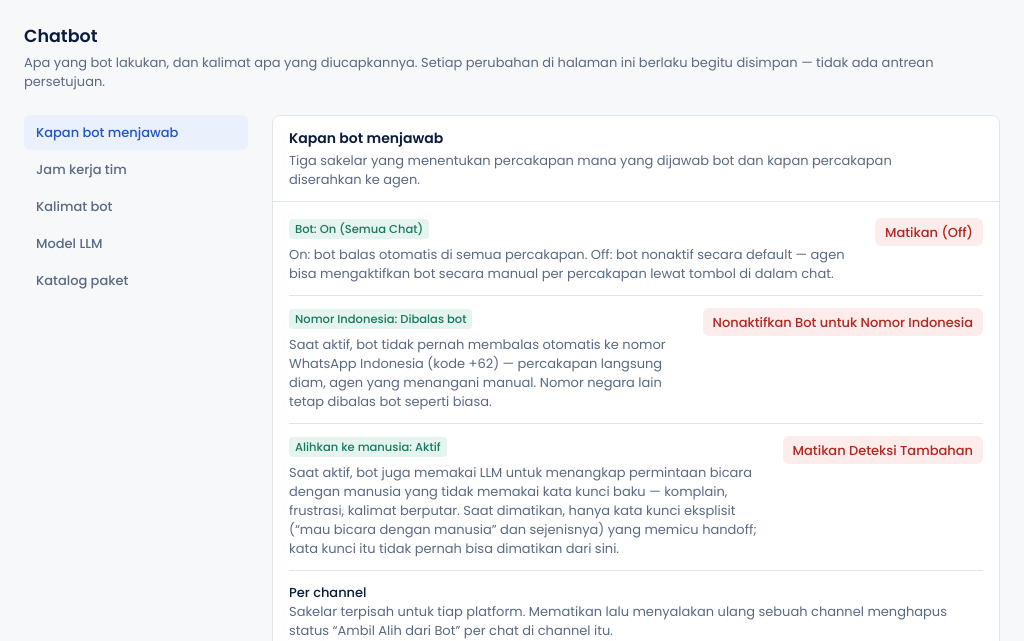
Test: ChatbotPage › shows the bot On/Off status and toggles the global mode
Check: the text "Bot: On (Semua Chat)" is shown, box x1=289 y1=219 x2=429 y2=239
Step 1. Click the button "Matikan (Off)" → click(929, 232), box x1=875 y1=218 x2=983 y2=246
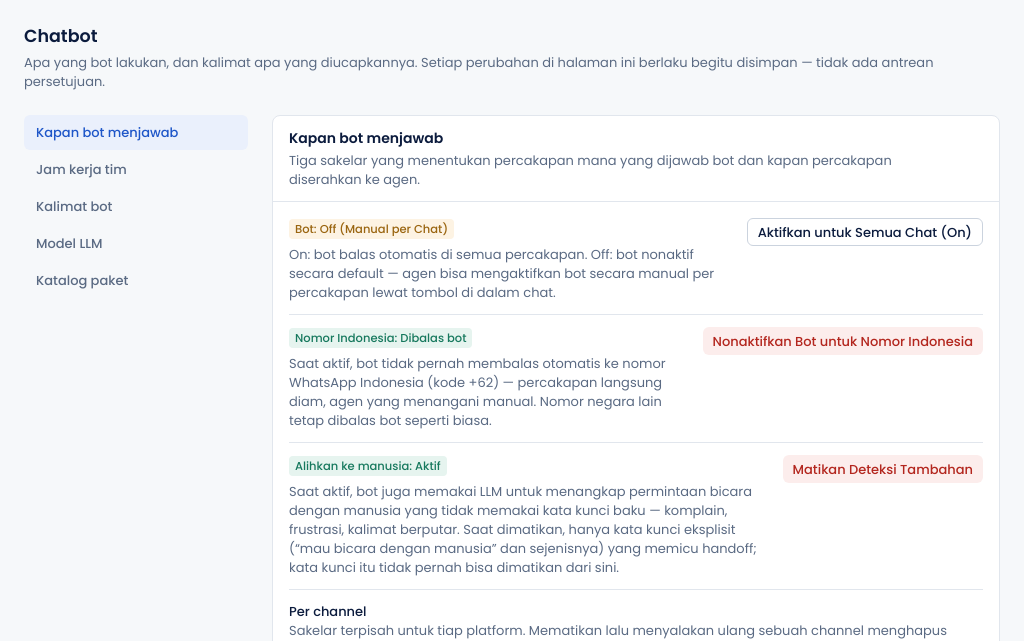
Check: the text "Bot: Off (Manual per Chat)" is shown, box x1=289 y1=219 x2=454 y2=239
